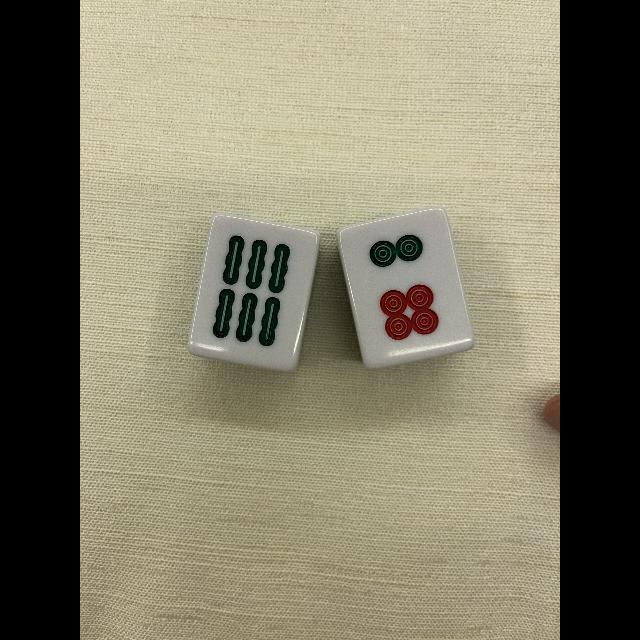b6: (200, 220, 302, 358)
d6: (348, 218, 459, 358)
